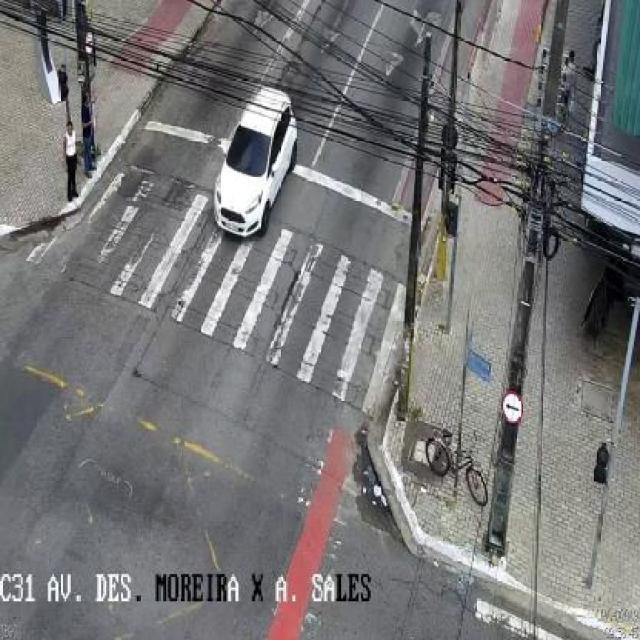Car: (186, 83, 324, 243)
